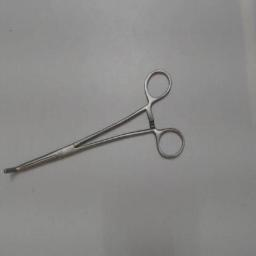Lahey Forceps: (2, 64, 188, 176)
